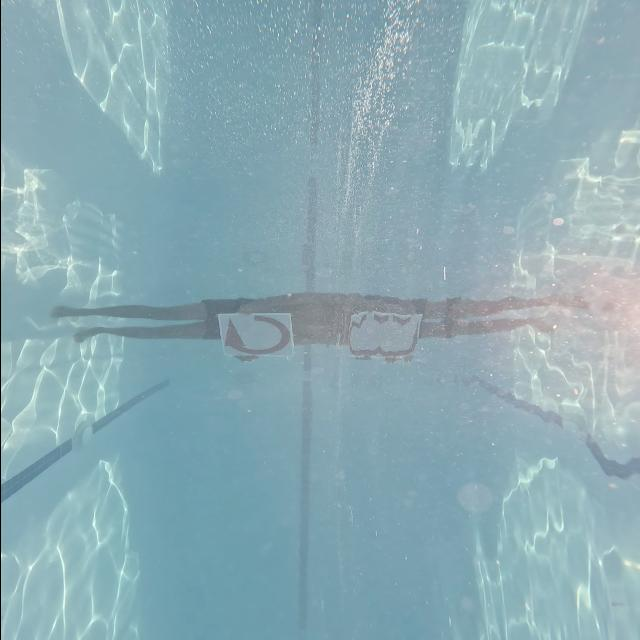red_side: (216, 313, 314, 353)
